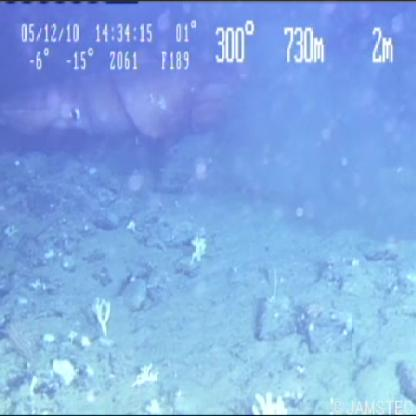Bio: (1, 62, 269, 149)
